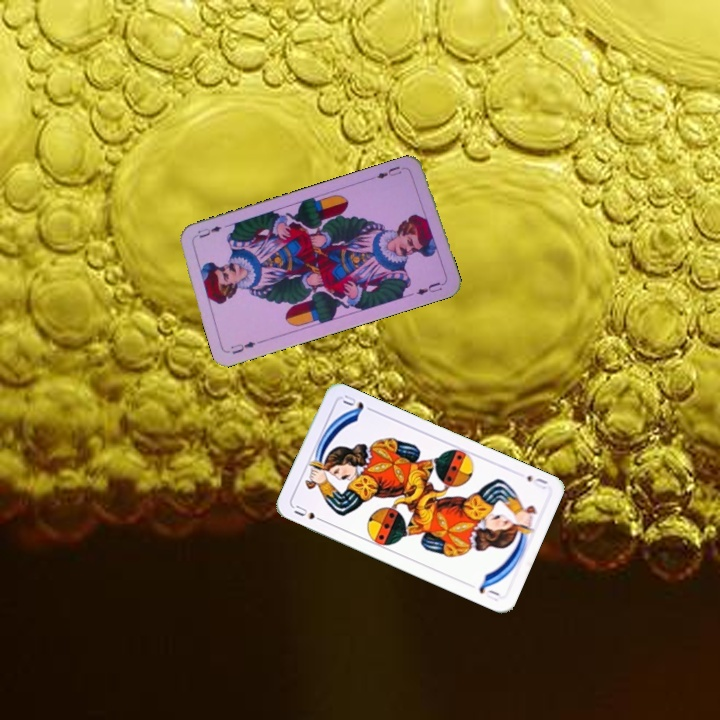EU: (373, 162, 409, 181), (227, 337, 258, 357)
SU: (290, 501, 328, 525), (523, 471, 551, 492)
